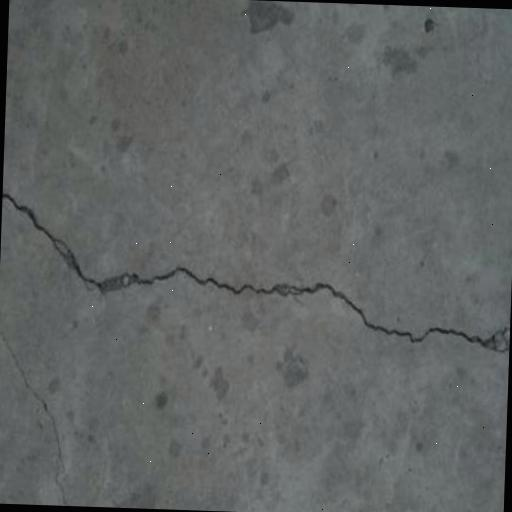spalling: (2, 168, 502, 378)
